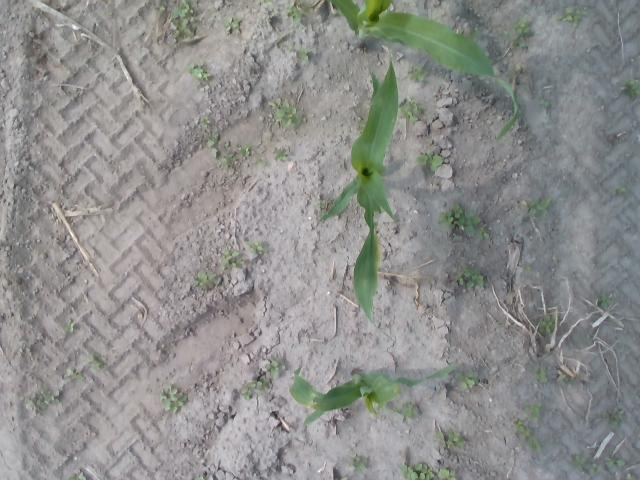Maize: (334, 0, 519, 141), (317, 45, 398, 339), (288, 365, 456, 425)
Weeds: (268, 98, 298, 125), (160, 386, 187, 413), (454, 268, 484, 286), (419, 148, 443, 170), (208, 133, 230, 157), (404, 464, 436, 479), (525, 198, 551, 215), (457, 213, 478, 234), (222, 248, 244, 268), (171, 17, 191, 38), (435, 432, 465, 446), (562, 7, 586, 24), (266, 360, 286, 378), (243, 380, 262, 398), (402, 102, 420, 120), (604, 408, 624, 424), (456, 372, 476, 388), (190, 63, 210, 78), (525, 400, 540, 420), (225, 16, 243, 32), (32, 396, 48, 412), (352, 456, 370, 470), (605, 456, 624, 468), (438, 210, 453, 225), (288, 6, 304, 20), (274, 147, 290, 161), (402, 404, 420, 416), (198, 274, 216, 286), (542, 316, 554, 332), (410, 68, 426, 80), (245, 242, 262, 252), (517, 22, 531, 34), (70, 367, 85, 378), (171, 8, 187, 18), (623, 84, 639, 94), (89, 356, 102, 368), (222, 155, 234, 168), (438, 468, 450, 480), (297, 49, 309, 61), (49, 390, 60, 402), (184, 1, 194, 14), (453, 204, 462, 218), (66, 318, 74, 333), (576, 456, 586, 468), (598, 296, 610, 306), (238, 145, 250, 155), (612, 186, 626, 194), (531, 440, 541, 450), (521, 428, 531, 438), (200, 118, 210, 128), (514, 418, 522, 430), (255, 157, 267, 165), (498, 27, 508, 36), (478, 229, 488, 238), (541, 98, 550, 108), (537, 371, 547, 379), (525, 264, 531, 270)
